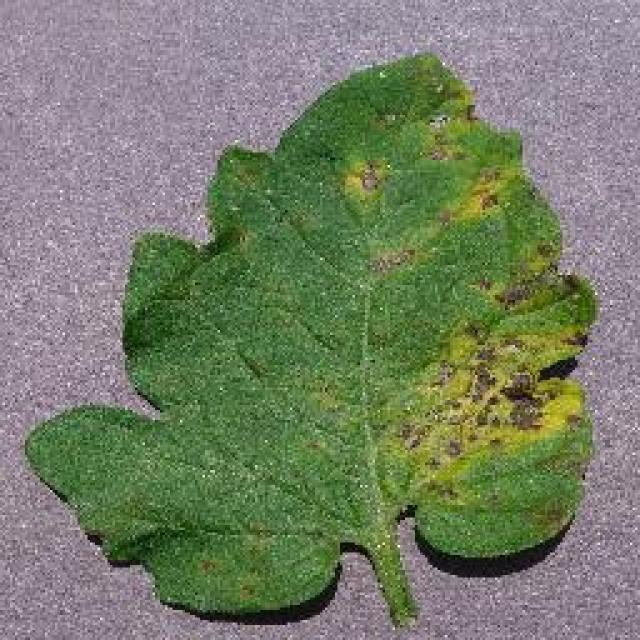Tomato Septoria spot leaf: (27, 49, 599, 618)
